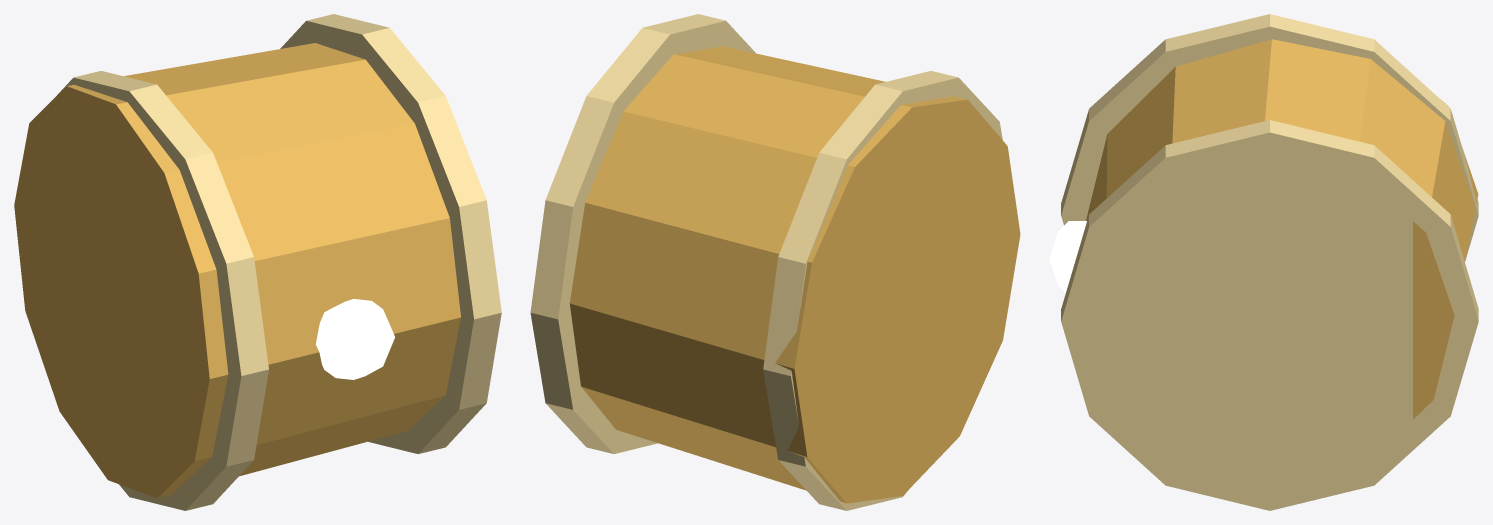
Rendered from first_guardian_bracer_l.glb.
The picture shows the model from 3 angles, left to right: view 1: azimuth 30°, elevation 25°; view 2: azimuth 150°, elevation 25°; view 3: azimuth 270°, elevation 25°; orthographic projection. The views are drawn at different scales.
Parts seen in each view (by area): view 1: first_guardian_bracer_l; view 2: first_guardian_bracer_l; view 3: first_guardian_bracer_l.
Boxes of the visible parts, left/top/right/bottom form: first_guardian_bracer_l: left=14, top=14, right=501, bottom=510; first_guardian_bracer_l: left=530, top=14, right=1020, bottom=510; first_guardian_bracer_l: left=1049, top=14, right=1478, bottom=510.
Size of the model in its own units: 0.2533 by 0.35 by 0.36.
